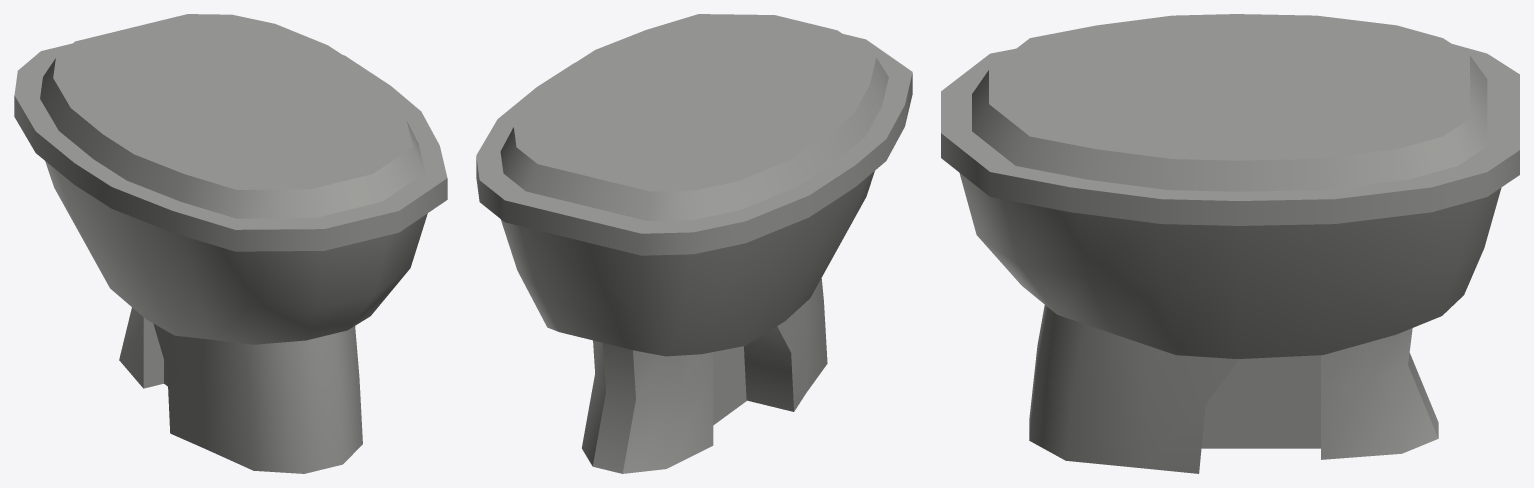
File: Bathroom_Toilet2.glb
3 renders of one model, left to right at view 1: azimuth 30°, elevation 25°; view 2: azimuth 150°, elevation 25°; view 3: azimuth 270°, elevation 25°, orthographic. The views are drawn at different scales.
Visible parts, largest first — view 1: Bathroom_Toilet2; view 2: Bathroom_Toilet2; view 3: Bathroom_Toilet2.
Boxes of the visible parts, <box> form: Bathroom_Toilet2: <box>14,14,447,473</box>; Bathroom_Toilet2: <box>476,14,912,473</box>; Bathroom_Toilet2: <box>941,14,1519,473</box>.
Bounding box in the file's own units: 0.5433 × 0.4928 × 0.753.
1 material, 1 textured.
